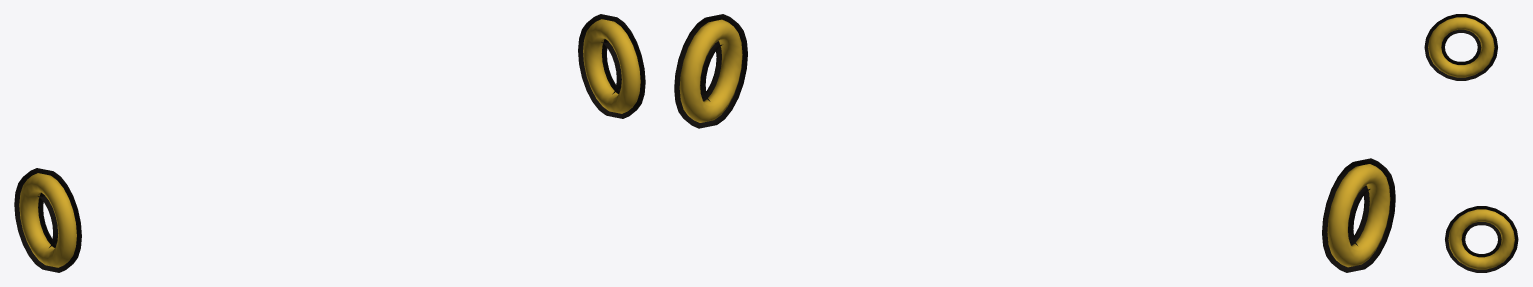
Rendered from earring_hoop_female_hi.glb.
The picture shows the model from 3 angles, left to right: view 1: azimuth 30°, elevation 25°; view 2: azimuth 150°, elevation 25°; view 3: azimuth 270°, elevation 25°; orthographic projection. The views are drawn at different scales.
Parts seen in each view (by area): view 1: earring_hoop_female_hi; view 2: earring_hoop_female_hi; view 3: earring_hoop_female_hi.
Boxes of the visible parts, x1=… form: earring_hoop_female_hi: x1=14, y1=14, x2=645, y2=272; earring_hoop_female_hi: x1=674, y1=14, x2=1395, y2=272; earring_hoop_female_hi: x1=1424, y1=14, x2=1518, y2=272.
Size of the model in its own units: 0.467 by 0.0727 by 0.0919.
